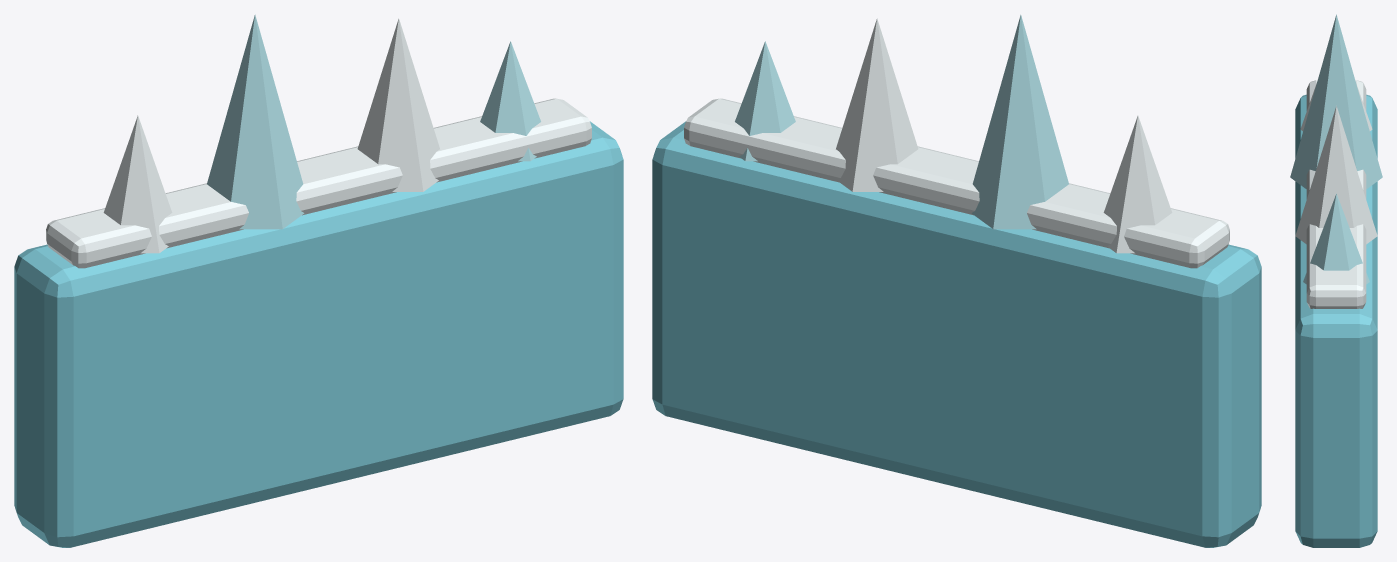
File: wall-ice.glb
The picture shows the model from 3 angles, left to right: view 1: azimuth 30°, elevation 25°; view 2: azimuth 150°, elevation 25°; view 3: azimuth 270°, elevation 25°; orthographic projection. The views are drawn at different scales.
Parts seen in each view (by area): view 1: mesh_wall_ice_body, mesh_wall_ice_accent, mesh_wall_ice_crystal; view 2: mesh_wall_ice_body, mesh_wall_ice_accent, mesh_wall_ice_crystal; view 3: mesh_wall_ice_body, mesh_wall_ice_accent, mesh_wall_ice_crystal.
Boxes of the visible parts, x1,y1,x2,y2 form: mesh_wall_ice_body: [14, 121, 623, 547]; mesh_wall_ice_accent: [46, 18, 591, 268]; mesh_wall_ice_crystal: [207, 14, 540, 229]; mesh_wall_ice_body: [652, 121, 1261, 547]; mesh_wall_ice_accent: [684, 18, 1229, 268]; mesh_wall_ice_crystal: [735, 14, 1068, 229]; mesh_wall_ice_body: [1295, 94, 1377, 547]; mesh_wall_ice_accent: [1295, 80, 1377, 308]; mesh_wall_ice_crystal: [1290, 14, 1382, 284].
Bounding box in the file's own units: 1.08 × 0.85 × 0.18.
